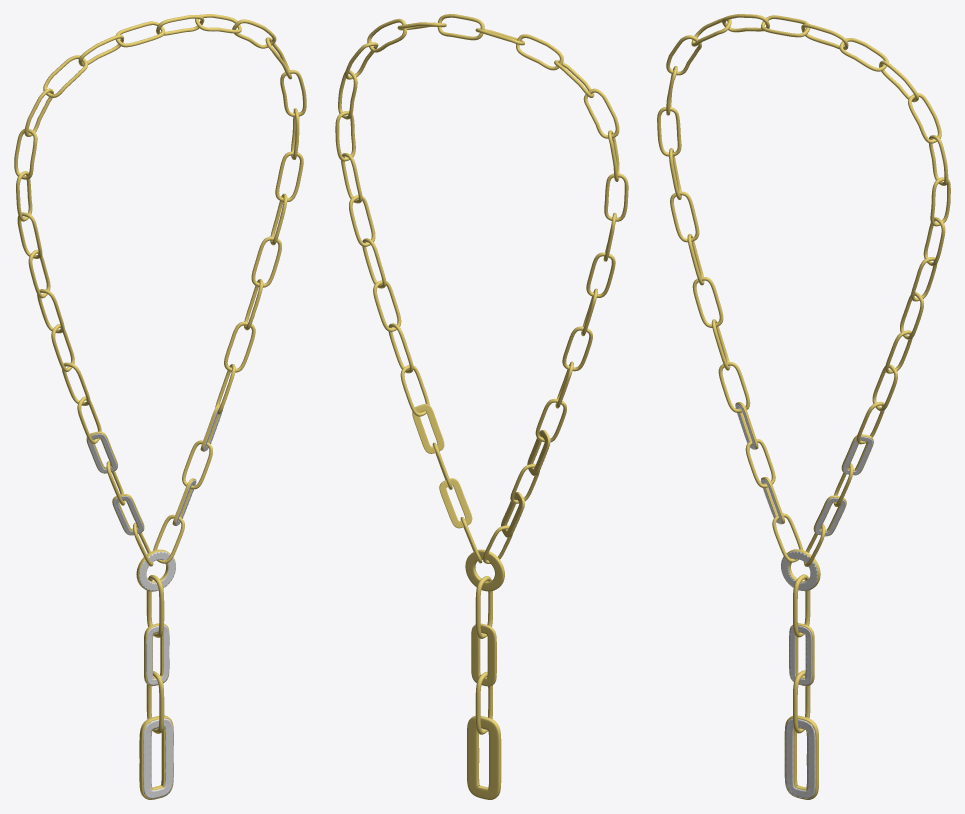
File: collar2.glb
The picture shows the model from 3 angles, left to right: view 1: azimuth 30°, elevation 25°; view 2: azimuth 150°, elevation 25°; view 3: azimuth 330°, elevation 25°; orthographic projection.
Parts seen in each view (by area): view 1: BezierCircle; view 2: BezierCircle; view 3: BezierCircle.
Part boxes in pixels (<box>): BezierCircle: <box>14,14,306,799</box>; BezierCircle: <box>335,14,628,799</box>; BezierCircle: <box>657,14,950,799</box>.
Size of the model in its own units: 6.3 by 16.13 by 0.5645.
